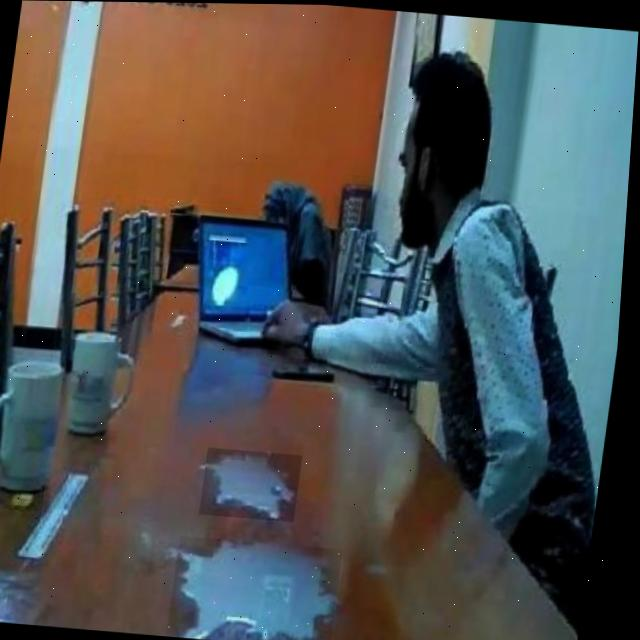spillage: (183, 540, 343, 640), (211, 451, 303, 518)
